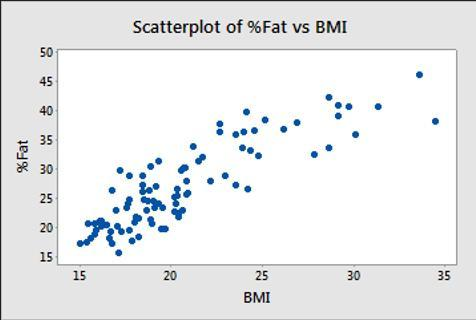axis: (59, 260, 458, 269), (54, 46, 61, 266)
point: (276, 123, 289, 135), (430, 115, 443, 127), (243, 183, 254, 194), (291, 118, 303, 128), (322, 92, 334, 102), (241, 107, 252, 117), (325, 142, 335, 153), (309, 149, 320, 159), (344, 101, 355, 111), (154, 156, 164, 166), (138, 170, 148, 180), (239, 127, 249, 137), (260, 115, 270, 125), (333, 111, 343, 121), (351, 129, 361, 139), (415, 70, 425, 80), (231, 180, 241, 190), (122, 200, 133, 209), (373, 102, 384, 111), (114, 248, 124, 257), (206, 176, 215, 186), (180, 163, 190, 172), (193, 157, 203, 166), (237, 143, 247, 152), (246, 146, 256, 155), (254, 150, 263, 160), (215, 128, 225, 137), (221, 171, 230, 181), (162, 224, 170, 235), (214, 120, 225, 128), (116, 166, 125, 175), (108, 186, 117, 195), (146, 162, 155, 171), (182, 191, 191, 200), (182, 176, 191, 185), (176, 166, 185, 175), (189, 142, 198, 151), (231, 130, 240, 139), (250, 126, 259, 135), (334, 101, 343, 110), (122, 205, 132, 213), (126, 171, 134, 181), (138, 181, 148, 189), (198, 153, 208, 161), (76, 238, 83, 249), (155, 199, 163, 208), (142, 206, 151, 214), (130, 219, 139, 227), (148, 220, 157, 228), (134, 233, 143, 241), (127, 237, 136, 245), (106, 228, 115, 236), (103, 220, 111, 229), (83, 238, 91, 247), (173, 185, 182, 193), (152, 182, 160, 190), (132, 212, 140, 220), (125, 226, 133, 234), (106, 234, 114, 242), (179, 206, 187, 214), (185, 188, 193, 196), (112, 206, 119, 215), (146, 186, 153, 195), (144, 196, 151, 205), (160, 203, 167, 212), (157, 224, 164, 233), (113, 223, 122, 230), (107, 240, 116, 247), (174, 214, 183, 221), (170, 208, 179, 215), (172, 201, 181, 208), (140, 196, 147, 204), (135, 215, 143, 222), (147, 215, 155, 222), (95, 222, 102, 230), (170, 194, 178, 201), (138, 189, 147, 195), (90, 231, 99, 237), (151, 205, 158, 212), (118, 229, 125, 236), (98, 216, 105, 223), (175, 193, 182, 200), (125, 196, 133, 202), (150, 196, 156, 204), (85, 220, 91, 228), (88, 236, 94, 242), (92, 228, 99, 233)
